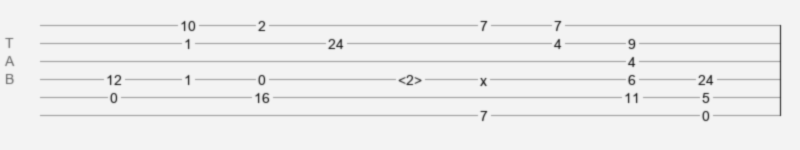0: (110, 90, 118, 100), (258, 72, 266, 82), (702, 108, 710, 118)
1: (184, 36, 192, 46), (184, 72, 192, 82)
10: (180, 18, 196, 28)
11: (624, 90, 640, 100)
12: (106, 72, 122, 82)
16: (254, 90, 270, 100)
2: (258, 18, 266, 28)
24: (328, 36, 344, 46), (698, 72, 714, 82)
4: (554, 36, 562, 46), (628, 54, 636, 64)
5: (702, 90, 710, 100)
6: (628, 72, 636, 82)
7: (480, 108, 488, 118), (480, 18, 488, 28), (554, 18, 562, 28)
9: (628, 36, 636, 46)
harmonic: (398, 72, 422, 82)
x: (480, 73, 487, 81)
